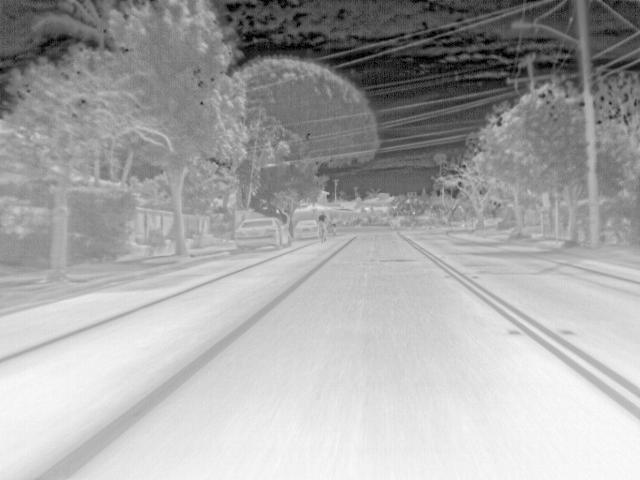car: (233, 218, 292, 252), (294, 219, 318, 240)
person: (319, 210, 329, 243)
